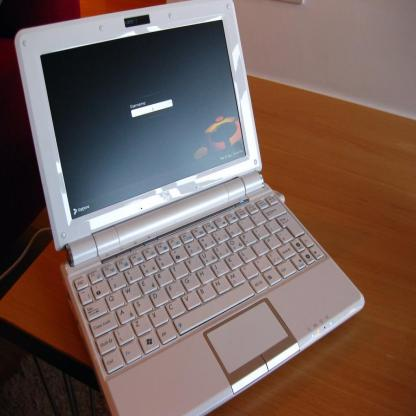board: (14, 0, 363, 415)
